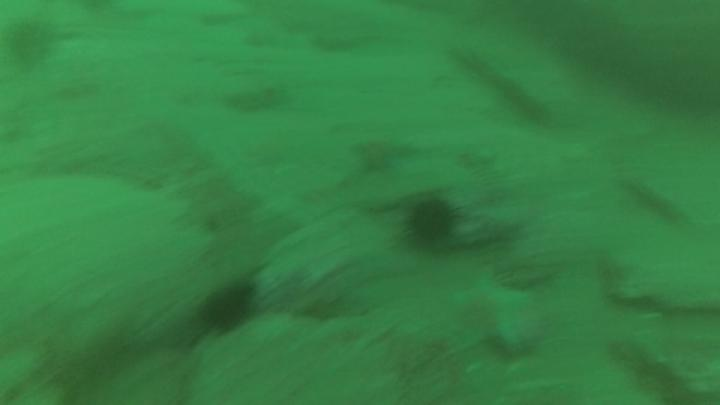echinus: (194, 276, 259, 337), (408, 193, 457, 252)
